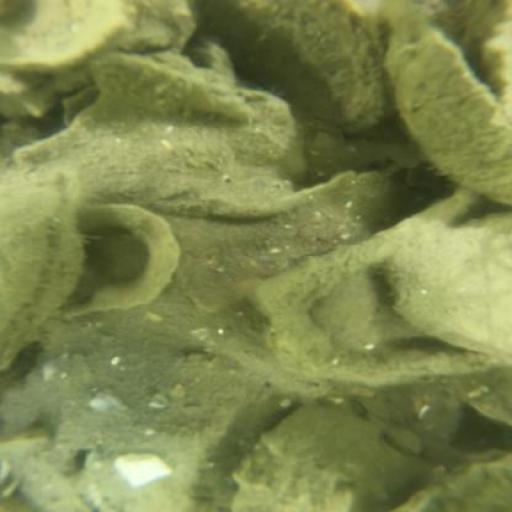Oyster-Closed: (5, 356, 267, 512), (16, 90, 299, 216), (199, 1, 389, 134), (386, 1, 509, 200), (236, 407, 410, 509), (392, 223, 508, 355), (93, 53, 257, 120), (93, 433, 199, 512), (396, 459, 512, 512), (442, 368, 512, 427)
Oyster-Open: (1, 168, 80, 368)
